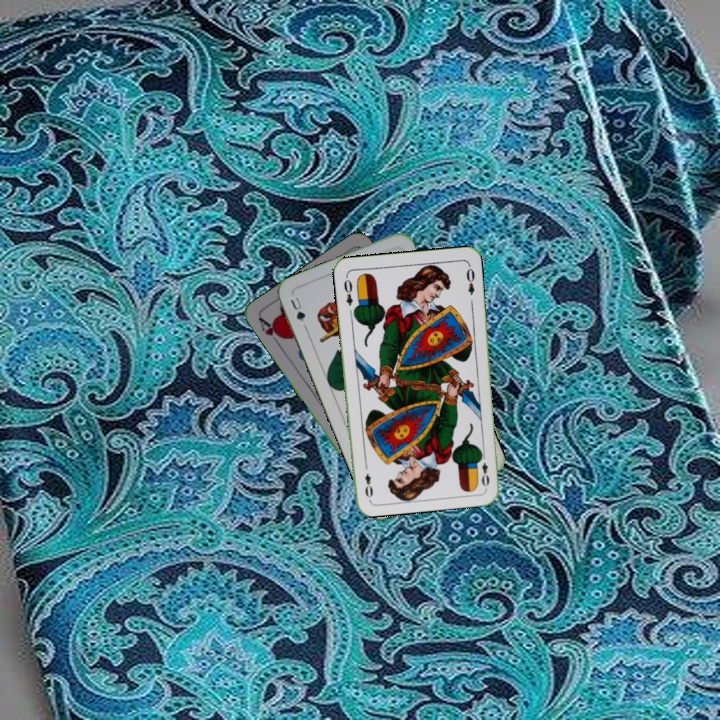EO: (475, 449, 492, 489), (340, 275, 355, 308)
GU: (286, 293, 309, 330)
HA: (255, 314, 286, 349)
